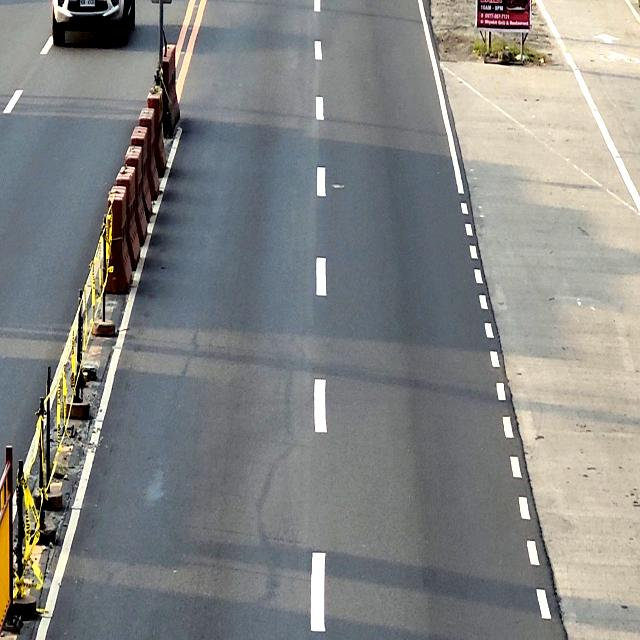Car: (51, 0, 136, 45)
License-Plate: (79, 0, 96, 7)
